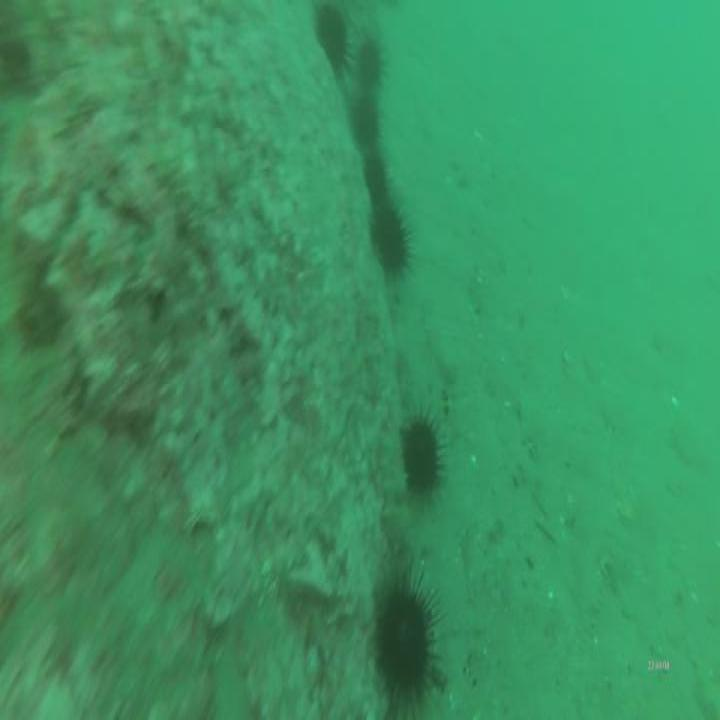echinus: (368, 570, 444, 714), (397, 395, 450, 503), (365, 197, 412, 283), (314, 4, 350, 80), (347, 89, 382, 162), (360, 149, 391, 208), (352, 39, 382, 94)
